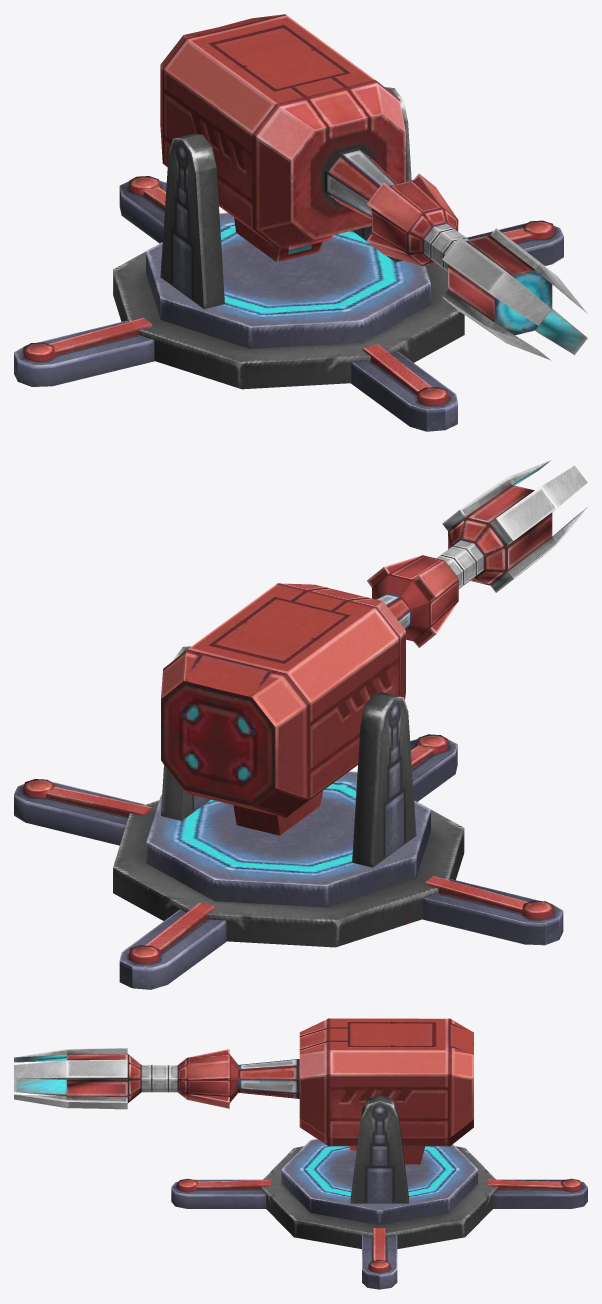
The picture shows the model from 3 angles, top to bottom: view 1: azimuth 30°, elevation 25°; view 2: azimuth 150°, elevation 25°; view 3: azimuth 270°, elevation 25°; orthographic projection. The views are drawn at different scales.
Parts seen in each view (by area): view 1: tower21, tower22; view 2: tower21, tower22; view 3: tower21, tower22.
Part boxes in pixels (x1=…): tower21: x1=146, y1=14, x2=587, y2=360; tower22: x1=14, y1=176, x2=563, y2=431; tower21: x1=146, y1=460, x2=587, y2=907; tower22: x1=14, y1=734, x2=563, y2=989; tower21: x1=14, y1=1018, x2=477, y2=1224; tower22: x1=171, y1=1146, x2=587, y2=1289.
Size of the model in its own units: 11.43 by 5.05 by 15.75.
Materials: 1 (1 with a texture image).
